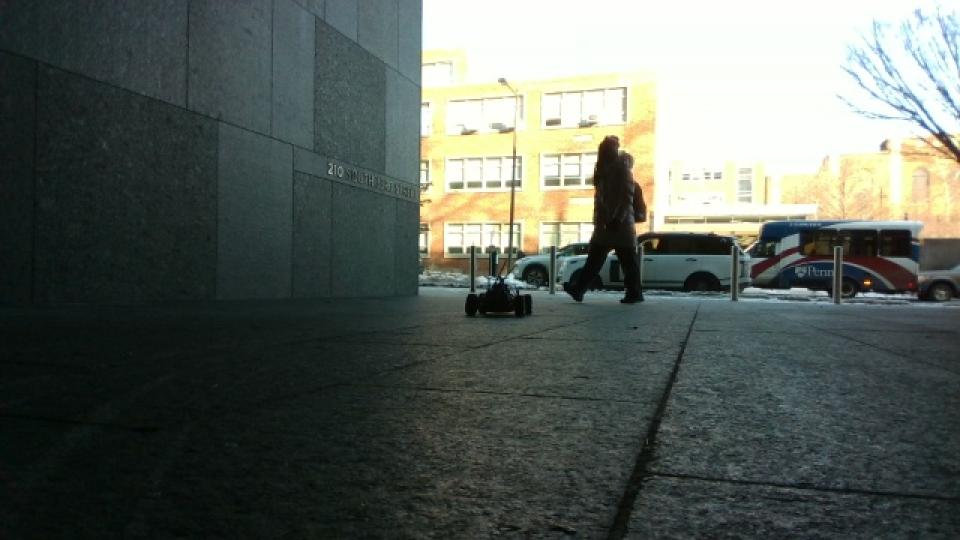car: (742, 216, 926, 302)
